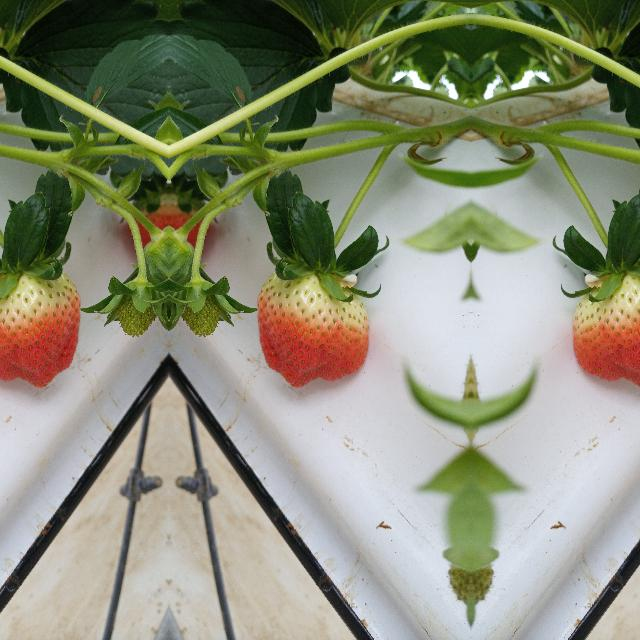Health_75: (255, 270, 368, 388), (0, 270, 80, 387), (572, 270, 640, 387)
